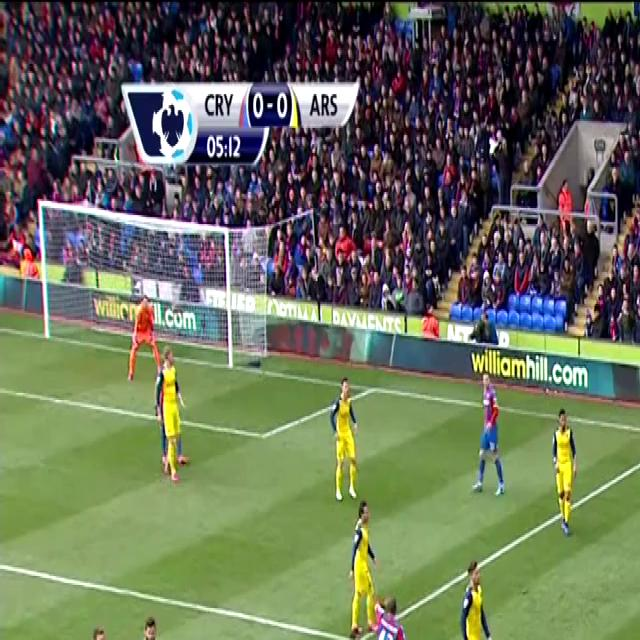goalkeeper: (125, 275, 159, 392)
referee: (156, 345, 195, 490)
soccer-player: (342, 482, 381, 640), (471, 364, 509, 504), (547, 400, 583, 545), (451, 540, 495, 640), (328, 376, 362, 503), (367, 592, 418, 640), (64, 610, 119, 640), (126, 608, 175, 640)
